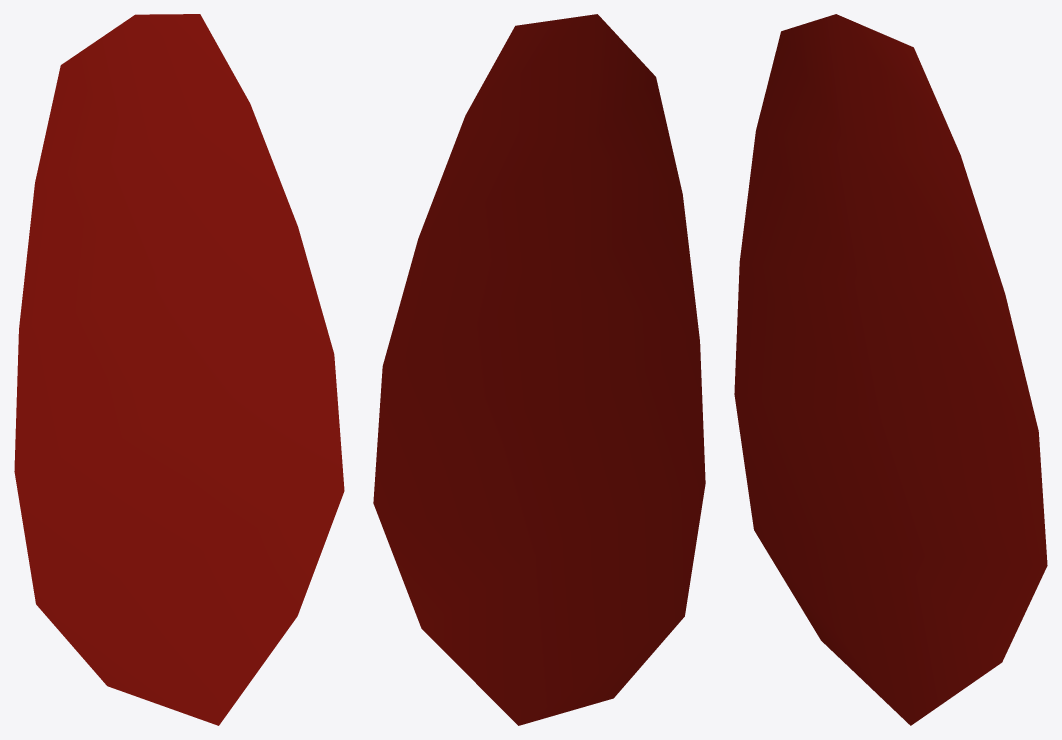
Rendered from ara_feather_flight_tertiary_017.obj.
3 views of the same model, side by side, from view 1: azimuth 30°, elevation 25°; view 2: azimuth 150°, elevation 25°; view 3: azimuth 330°, elevation 25° (orthographic). The views are drawn at different scales.
Parts seen in each view (by area): view 1: feather_flight_tertiary_017; view 2: feather_flight_tertiary_017; view 3: feather_flight_tertiary_017.
Part boxes in pixels (x1,y1,x2,y2): feather_flight_tertiary_017: [14, 14, 344, 725]; feather_flight_tertiary_017: [373, 14, 705, 725]; feather_flight_tertiary_017: [734, 14, 1047, 725].
Bounding box in the file's own units: 0.0164 × 0.0346 × 0.000942.
